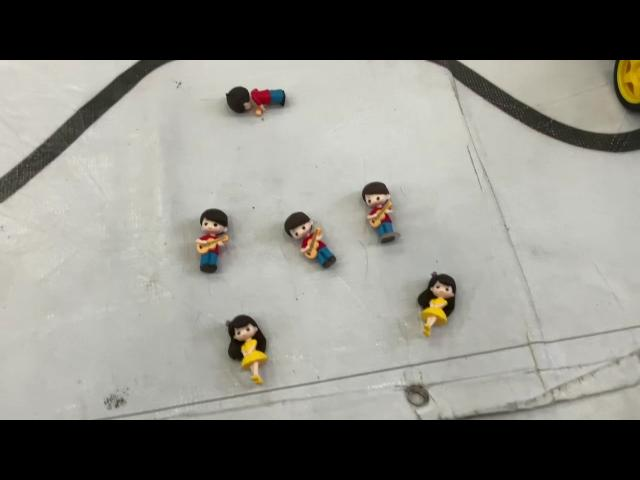man: (280, 209, 340, 269), (360, 178, 402, 244), (194, 204, 232, 276), (222, 82, 288, 118)
woman: (224, 312, 276, 388), (413, 267, 459, 339)
